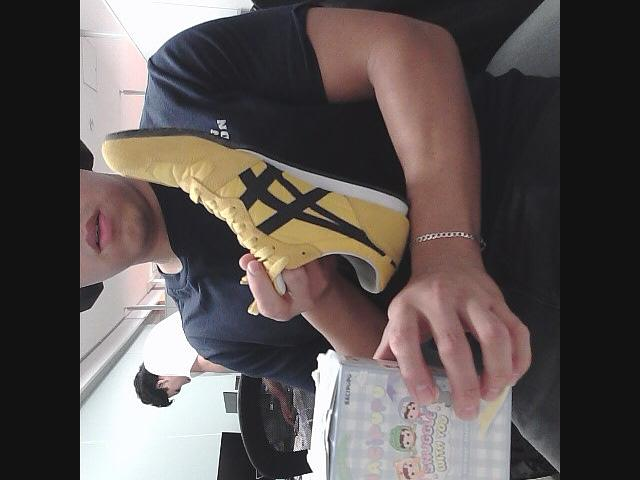Blind_box: (309, 346, 510, 480)
Shoes: (104, 120, 412, 296)
